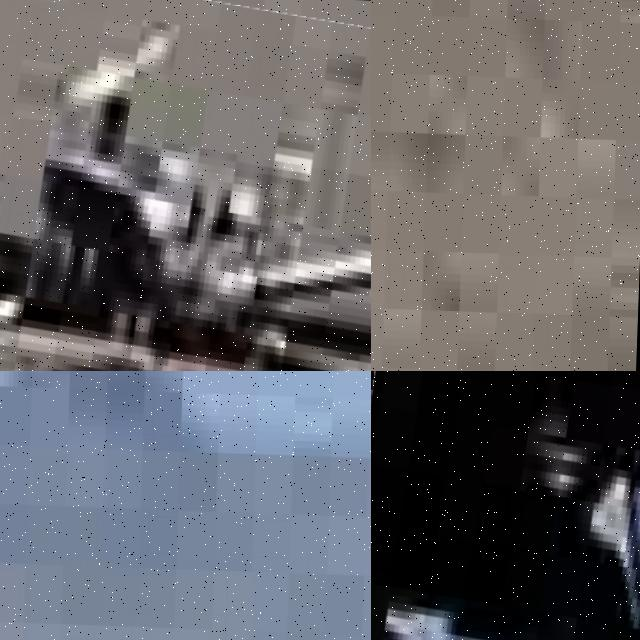drone: (0, 0, 371, 371), (371, 371, 640, 640)
